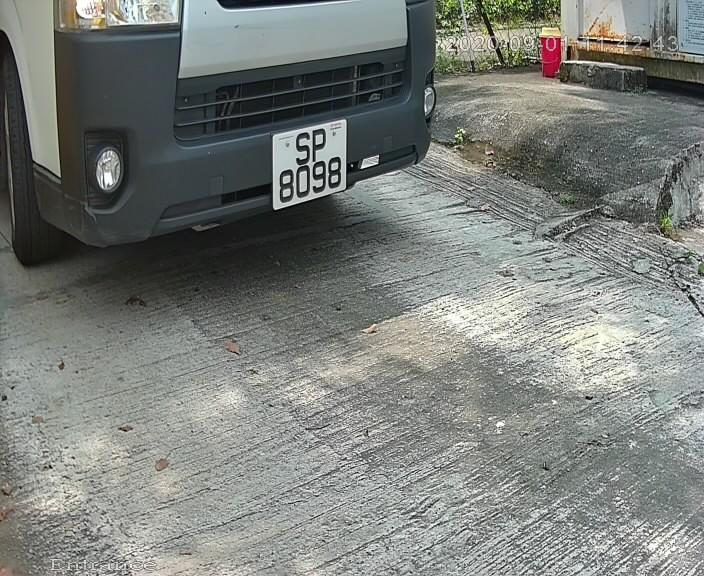License Plate: (261, 116, 359, 206)
